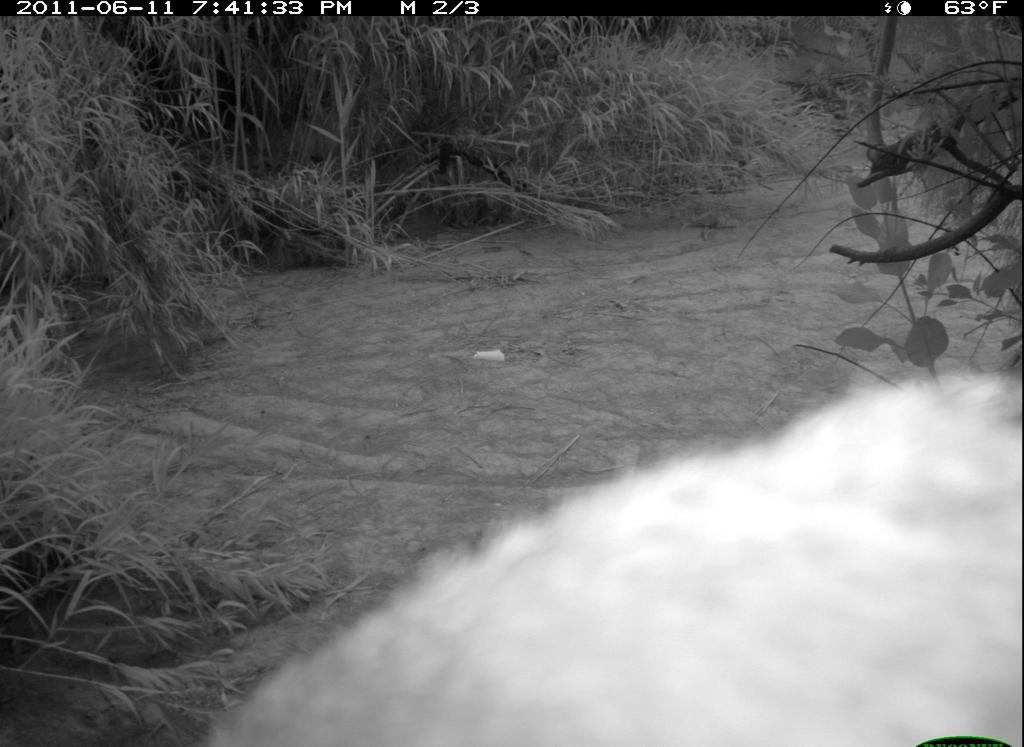bobcat: (176, 354, 1023, 747)
